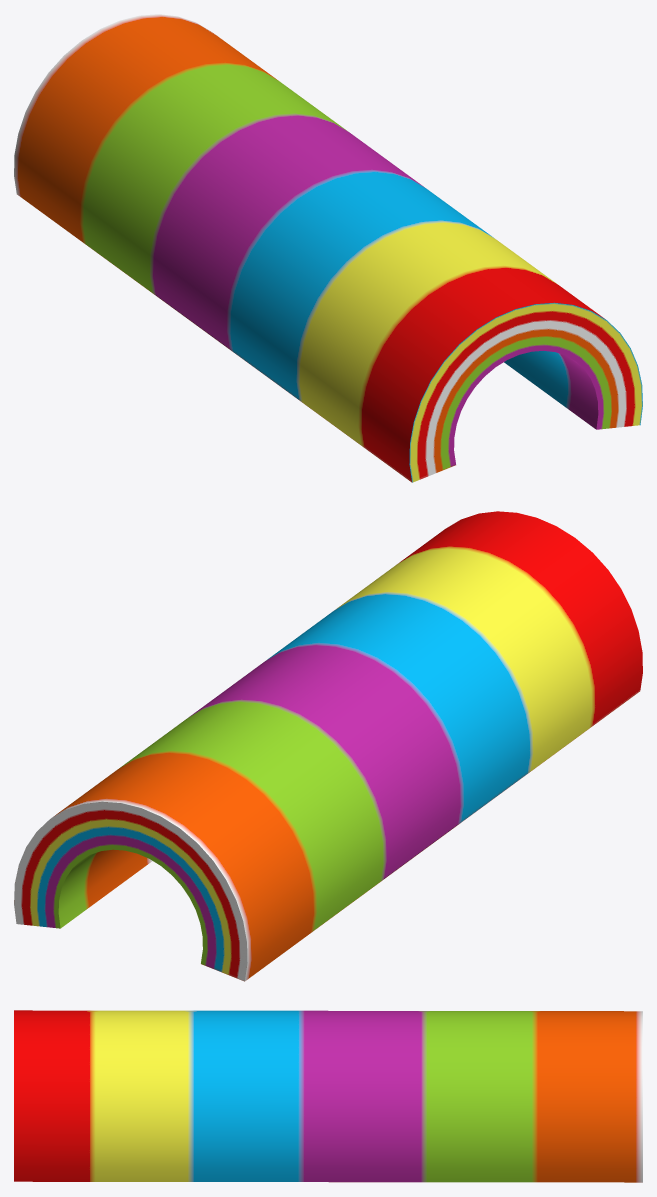
File: RainbowBridge.FBX
3 renders of one model, top to bottom at view 1: azimuth 30°, elevation 25°; view 2: azimuth 150°, elevation 25°; view 3: azimuth 270°, elevation 25°, orthographic. The views are drawn at different scales.
Visible parts, largest first — view 1: Arc001; view 2: Arc001; view 3: Arc001.
Part boxes in pixels (left/top/right/bottom): Arc001: left=14, top=14, right=642, bottom=482; Arc001: left=14, top=511, right=642, bottom=981; Arc001: left=14, top=1010, right=642, bottom=1182.
Bounding box in the file's own units: 12.48 × 7.63 × 36.61.
Materials: 1 (1 with a texture image).
